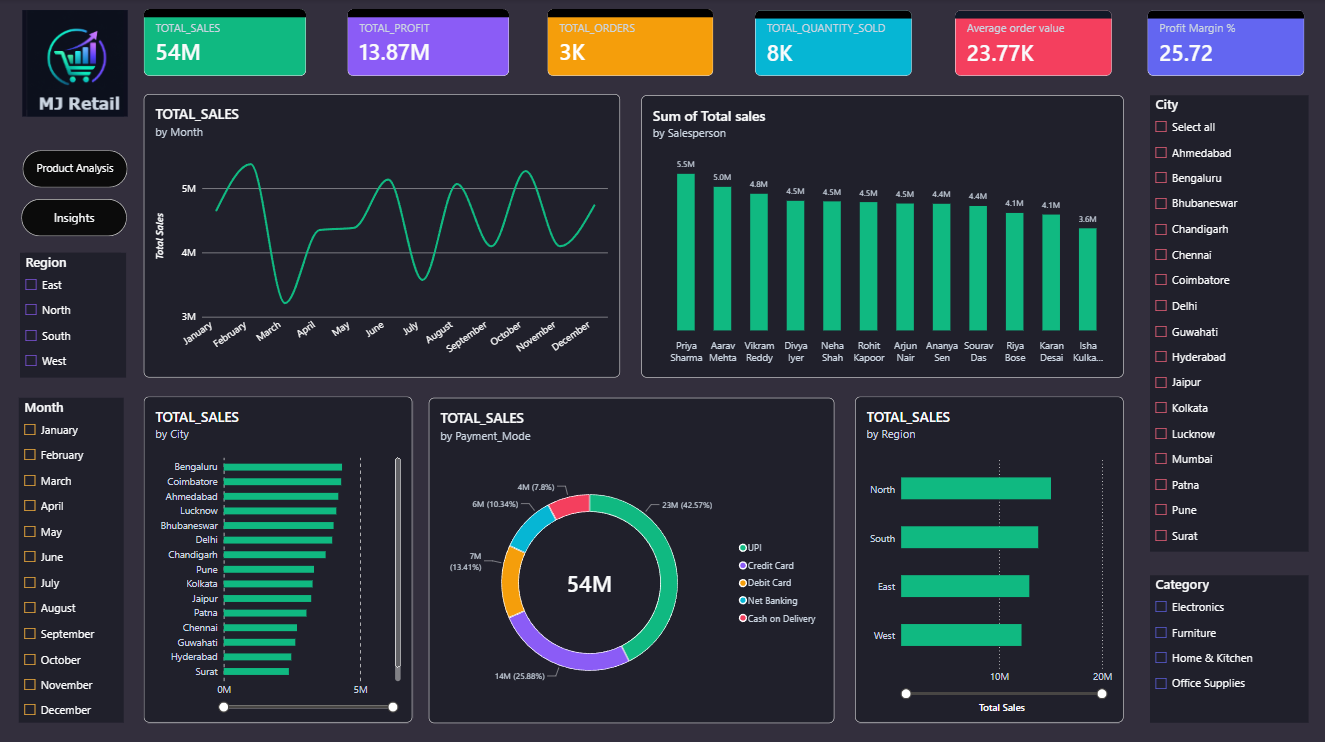

What the dashboard file says about the page in this screenshot:
{"tool":"powerbi","page":{"name":"Sales Overview","canvas":[1920,1080],"ordinal":0},"visuals":[{"type":"cardVisual","fields":{"Data":["Sales.TOTAL_SALES"]},"box":[208.1,14.5,235.3,97.7],"z":0},{"type":"cardVisual","title":"totalprofit","fields":{"Data":["Sales.TOTAL_PROFIT"]},"box":[503.1,14.5,234.8,97.2],"z":1000},{"type":"cardVisual","fields":{"Data":["Sales.TOTAL_ORDERS"]},"box":[792.6,14.5,240.3,97.2],"z":2000},{"type":"cardVisual","fields":{"Data":["Sales.TOTAL_QUANTITY_SOLD"]},"box":[1093,16.3,227.4,95.4],"z":3000},{"type":"cardVisual","fields":{"Data":["Sales.Average order value"]},"box":[1382.6,16.3,227.4,95.4],"z":4000},{"type":"cardVisual","fields":{"Data":["Sales.Profit Margin %"]},"box":[1661.3,16.3,227.4,95.4],"z":5000},{"type":"barChart","fields":{"Category":["Sales.City"],"Y":["Sales.TOTAL_SALES"]},"box":[208.1,575.5,389.1,472.3],"z":6000},{"type":"lineChart","fields":{"Category":["Sales.Order_Date.Variation.Date Hierarchy.Month"],"Y":["Sales.TOTAL_SALES"]},"box":[208.1,137.5,689.5,410.8],"z":7000},{"type":"barChart","fields":{"Category":["Sales.Region"],"Y":["Sales.TOTAL_SALES"]},"box":[1237.8,575.5,389.1,472.3],"z":8000},{"type":"slicer","fields":{"Values":["Sales.Category"]},"box":[1664.9,834.3,229.8,213.5],"z":9000},{"type":"slicer","fields":{"Values":["Sales.City"]},"box":[1664.9,139.3,229.8,660.5],"z":10000},{"type":"donutChart","fields":{"Category":["Sales.Payment_Mode"],"Y":["Sales.TOTAL_SALES"]},"box":[620,577.8,587,471.4],"z":11000},{"type":"slicer","fields":{"Values":["Sales.Order_Date.Variation.Date Hierarchy.Month"]},"box":[27.1,577.3,152,470.5],"z":12000},{"type":"slicer","fields":{"Values":["Sales.Region"]},"box":[29,367.4,153.8,181],"z":13000},{"type":"clusteredColumnChart","fields":{"Category":["Sales.Salesperson"],"Y":["Sum(Sales.Total sales)"]},"box":[928.1,139.4,698.5,408.7],"z":14000},{"type":"pageNavigator","box":[32.6,219,152,54.3],"z":15000},{"type":"pageNavigator","box":[30.8,289.5,153.8,54.3],"z":16000},{"type":"image","box":[32.6,16.3,152,153.8],"z":19001}]}

Visuals, with their boxes in screenshot pixels (x1, y1, x2, y2), scaled from the page's 1920x1080 canvas onto the 1325x742 screenshot:
cardVisual - Sales.TOTAL_SALES: {"left": 144, "top": 10, "right": 306, "bottom": 77}
"totalprofit" cardVisual: {"left": 347, "top": 10, "right": 509, "bottom": 77}
cardVisual - Sales.TOTAL_ORDERS: {"left": 547, "top": 10, "right": 713, "bottom": 77}
cardVisual - Sales.TOTAL_QUANTITY_SOLD: {"left": 754, "top": 11, "right": 911, "bottom": 77}
cardVisual - Sales.Average order value: {"left": 954, "top": 11, "right": 1111, "bottom": 77}
cardVisual - Sales.Profit Margin %: {"left": 1146, "top": 11, "right": 1303, "bottom": 77}
barChart - Sales.City x Sales.TOTAL_SALES: {"left": 144, "top": 395, "right": 412, "bottom": 720}
lineChart - Sales.Order_Date.Variation.Date Hierarchy.Month x Sales.TOTAL_SALES: {"left": 144, "top": 94, "right": 619, "bottom": 377}
barChart - Sales.Region x Sales.TOTAL_SALES: {"left": 854, "top": 395, "right": 1123, "bottom": 720}
slicer - Sales.Category: {"left": 1149, "top": 573, "right": 1308, "bottom": 720}
slicer - Sales.City: {"left": 1149, "top": 96, "right": 1308, "bottom": 549}
donutChart - Sales.Payment_Mode x Sales.TOTAL_SALES: {"left": 428, "top": 397, "right": 833, "bottom": 721}
slicer - Sales.Order_Date.Variation.Date Hierarchy.Month: {"left": 19, "top": 397, "right": 124, "bottom": 720}
slicer - Sales.Region: {"left": 20, "top": 252, "right": 126, "bottom": 377}
clusteredColumnChart - Sales.Salesperson x Sum(Sales.Total sales): {"left": 640, "top": 96, "right": 1123, "bottom": 377}
pageNavigator: {"left": 22, "top": 150, "right": 127, "bottom": 188}
pageNavigator: {"left": 21, "top": 199, "right": 127, "bottom": 236}
image: {"left": 22, "top": 11, "right": 127, "bottom": 117}
